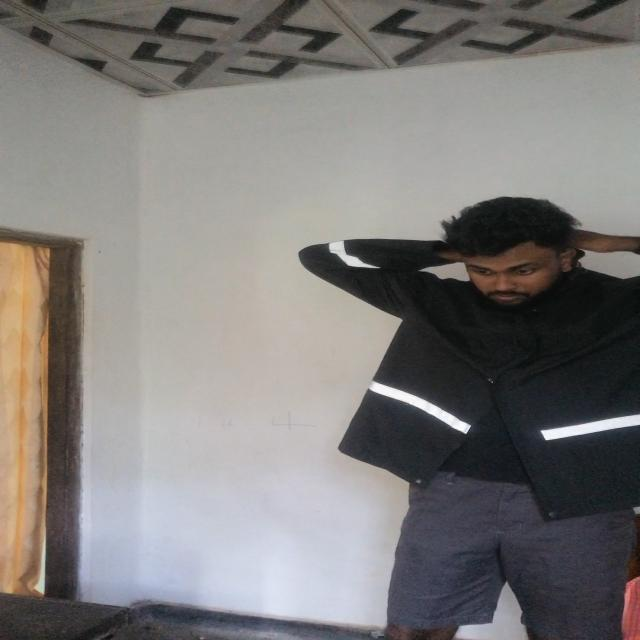Jacket_Wearer: (276, 235, 640, 507)
